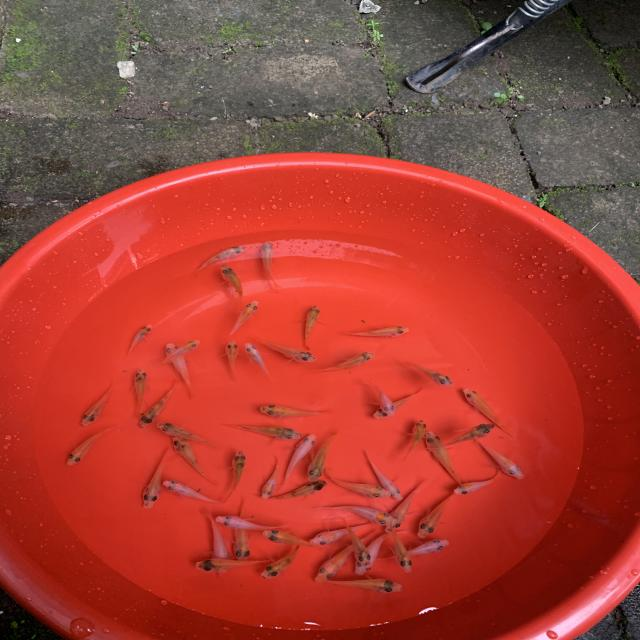nila: (418, 427, 469, 493), (310, 530, 370, 585), (466, 433, 530, 484), (353, 521, 406, 578), (457, 387, 516, 438), (61, 424, 122, 472), (278, 429, 324, 491), (358, 449, 408, 504), (382, 476, 428, 535), (320, 466, 394, 502), (134, 376, 183, 430), (140, 441, 176, 513), (170, 433, 216, 486), (311, 502, 402, 528), (218, 416, 303, 443), (415, 489, 460, 540), (160, 475, 225, 510), (322, 570, 406, 597), (149, 418, 222, 449), (257, 538, 309, 580), (192, 551, 286, 574), (162, 342, 198, 401), (436, 418, 499, 451), (373, 385, 428, 422), (388, 534, 458, 563), (262, 528, 337, 555), (188, 242, 244, 278), (394, 356, 457, 388), (78, 378, 118, 428), (212, 513, 296, 536), (339, 518, 374, 573), (306, 349, 380, 375), (307, 518, 381, 544), (204, 510, 235, 572), (219, 448, 254, 502), (304, 431, 340, 482), (232, 492, 258, 562), (451, 465, 507, 497), (250, 398, 334, 419), (255, 336, 323, 361), (152, 336, 202, 369), (385, 523, 414, 579), (242, 338, 280, 380), (264, 480, 329, 504), (343, 323, 414, 343), (259, 237, 286, 288), (123, 318, 157, 358), (126, 364, 150, 420), (257, 454, 283, 504), (400, 417, 428, 461), (217, 265, 250, 302), (220, 337, 244, 386), (304, 302, 323, 352), (230, 300, 258, 333), (374, 385, 397, 418)
